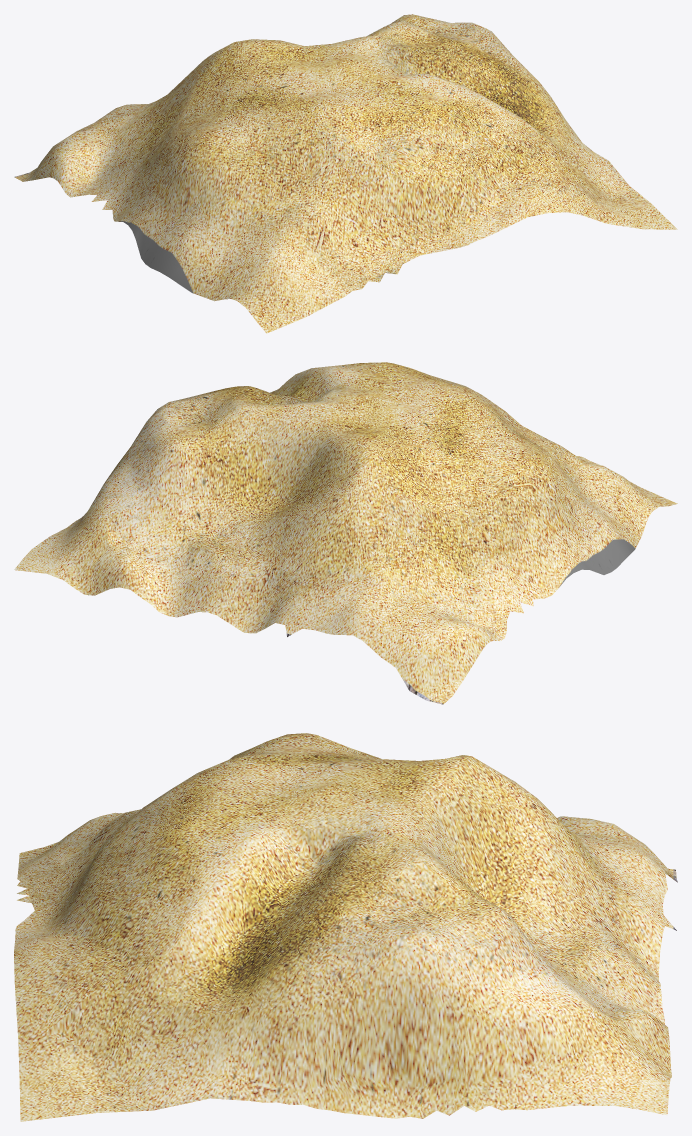
File: island.obj
3 renders of one model, top to bottom at view 1: azimuth 30°, elevation 25°; view 2: azimuth 150°, elevation 25°; view 3: azimuth 270°, elevation 25°, orthographic. The views are drawn at different scales.
Parts seen in each view (by area): view 1: terrain_Plane.001; view 2: terrain_Plane.001; view 3: terrain_Plane.001.
Boxes of the visible parts, x1,y1,x2,y2 form: terrain_Plane.001: [14, 14, 677, 333]; terrain_Plane.001: [14, 362, 677, 704]; terrain_Plane.001: [14, 733, 677, 1121].
Size of the model in its own units: 12.27 by 4.23 by 11.75.
